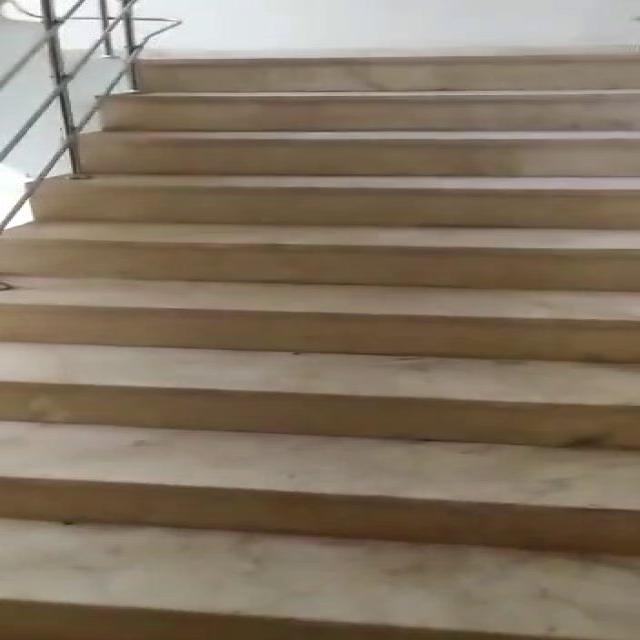stair: (1, 48, 640, 640)
